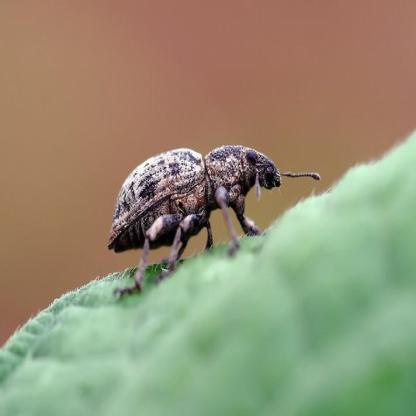rice-bug: (108, 141, 283, 288)
